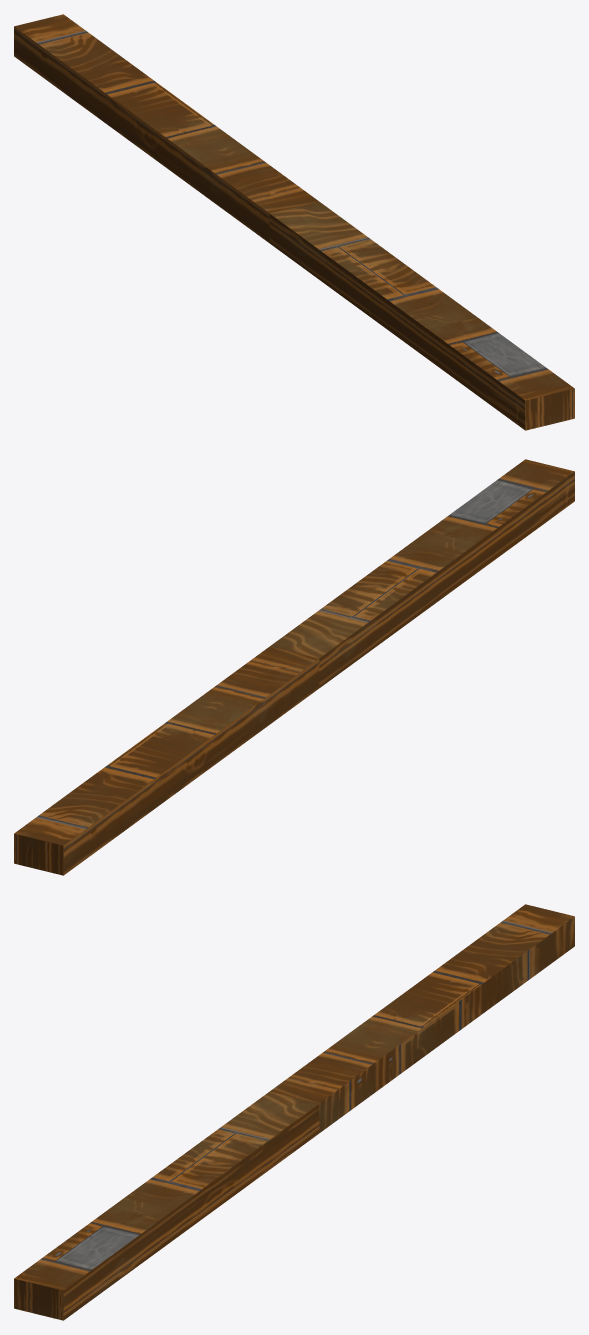
3 views of the same model, one above another, from view 1: azimuth 30°, elevation 25°; view 2: azimuth 150°, elevation 25°; view 3: azimuth 330°, elevation 25° (orthographic).
Visible parts, largest first — view 1: 4x4.051; view 2: 4x4.051; view 3: 4x4.051.
Boxes of the visible parts, x1=… form: 4x4.051: x1=14, y1=14, x2=574, y2=430; 4x4.051: x1=14, y1=459, x2=574, y2=875; 4x4.051: x1=14, y1=904, x2=574, y2=1320.
Bounding box in the file's own units: 71.41 × 41.28 × 1276.
1 material, 1 textured.
